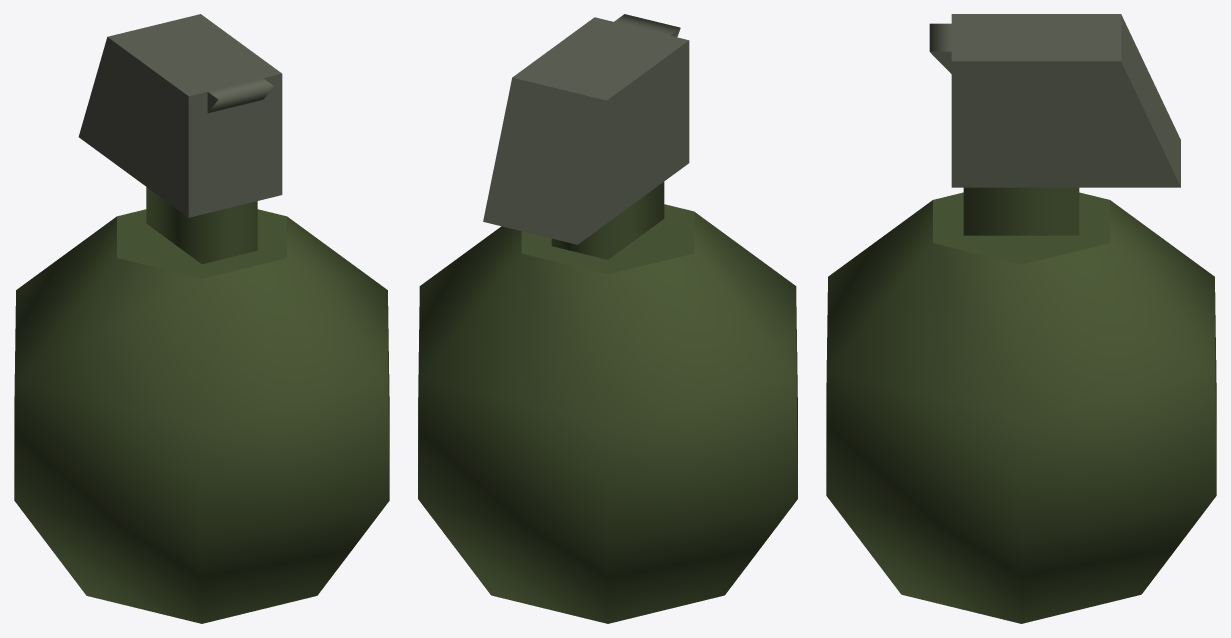
The model's file is FxProjectile_FragGrenade.FBX.
3 renders of one model, left to right at view 1: azimuth 30°, elevation 25°; view 2: azimuth 150°, elevation 25°; view 3: azimuth 270°, elevation 25°, orthographic. The views are drawn at different scales.
Parts seen in each view (by area): view 1: FxProjectile_FragGrenade; view 2: FxProjectile_FragGrenade; view 3: FxProjectile_FragGrenade.
Part boxes in pixels (left/top/right/bottom): FxProjectile_FragGrenade: left=14, top=14, right=389, bottom=623; FxProjectile_FragGrenade: left=418, top=14, right=797, bottom=623; FxProjectile_FragGrenade: left=826, top=14, right=1216, bottom=623.
Size of the model in its own units: 6.39 by 5.53 by 8.84.
